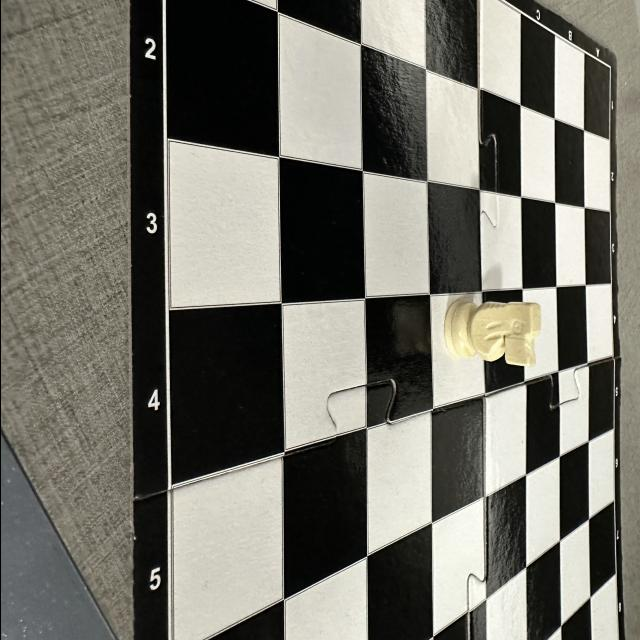White-Knight: (443, 298, 541, 368)
